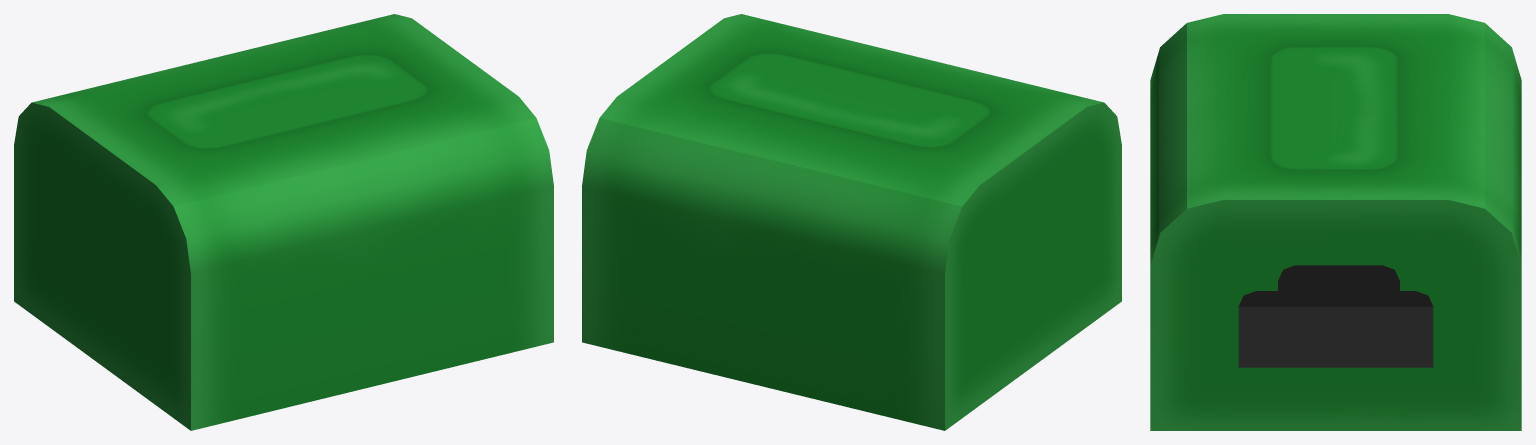
Rendered from Port_01.fbx.
3 views of the same model, side by side, from view 1: azimuth 30°, elevation 25°; view 2: azimuth 150°, elevation 25°; view 3: azimuth 270°, elevation 25° (orthographic). The views are drawn at different scales.
Parts seen in each view (by area): view 1: Port_01; view 2: Port_01; view 3: Port_01.
Boxes of the visible parts, x1,y1,x2,y2 form: Port_01: (14, 14, 553, 430); Port_01: (582, 14, 1121, 430); Port_01: (1150, 14, 1521, 430).
Size of the model in its own units: 1.62 by 0.9389 by 1.37.
